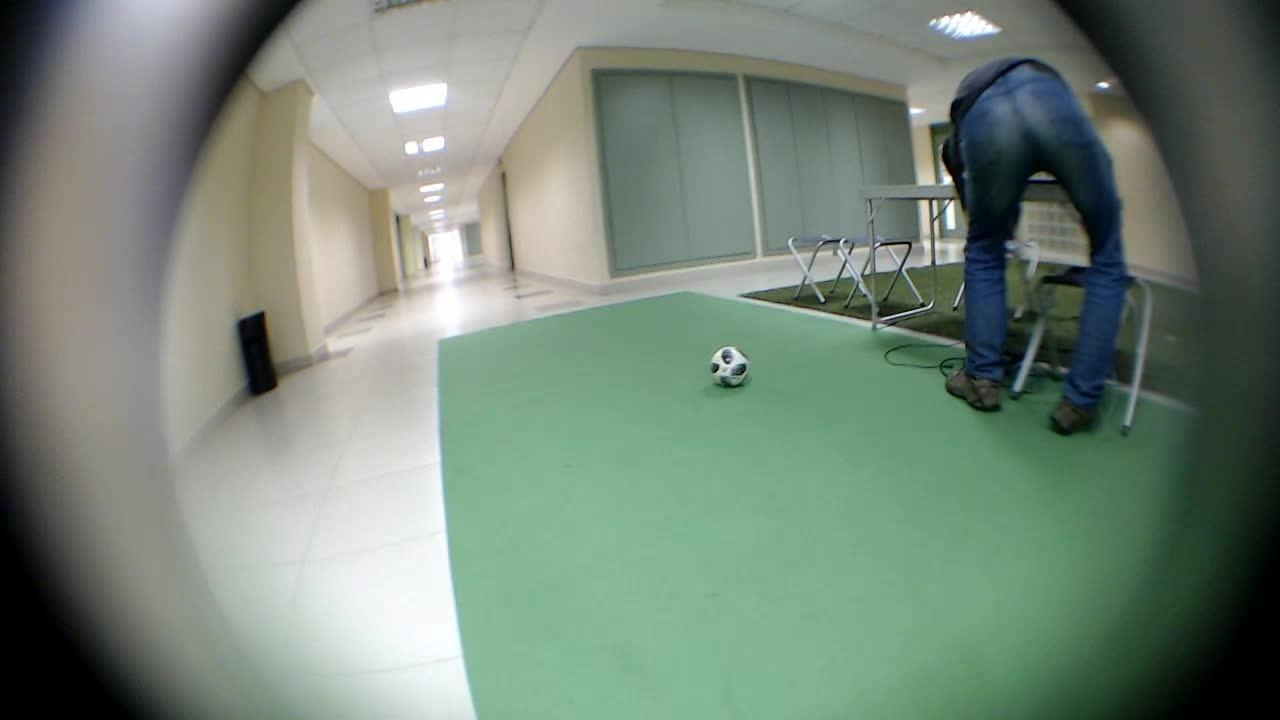ball: (693, 333, 748, 390)
